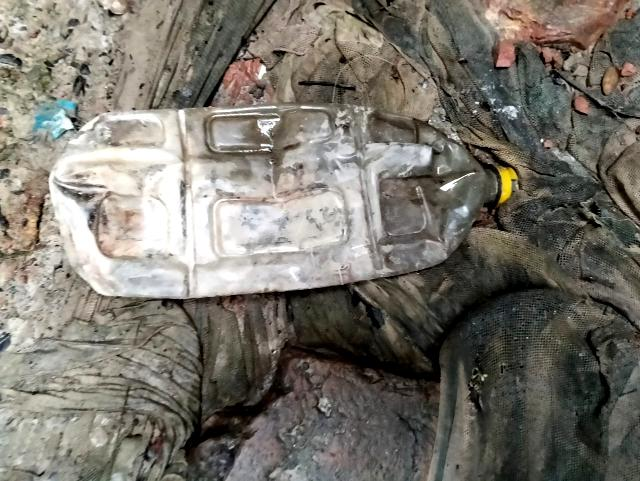bottle: (53, 105, 486, 292)
